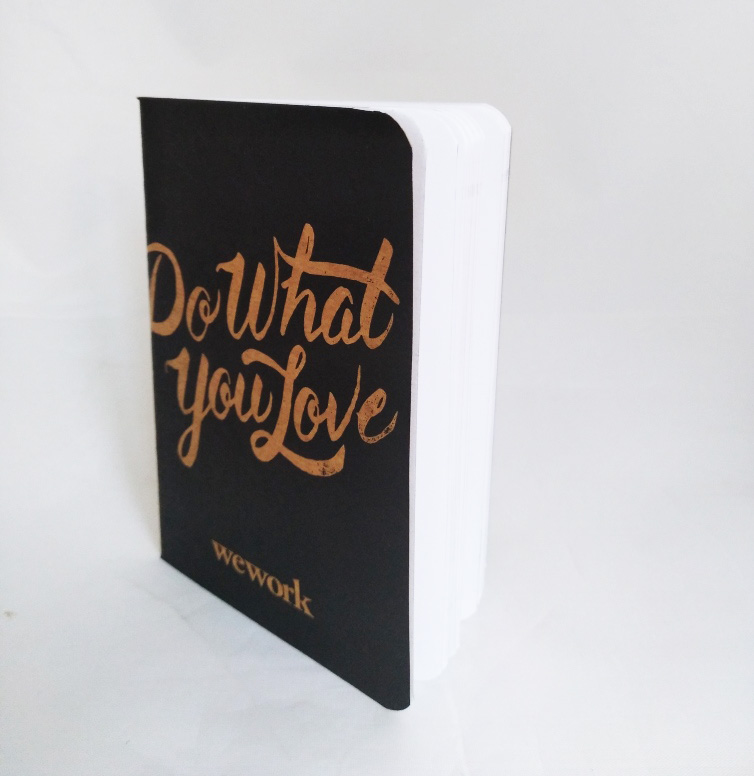wework: (208, 535, 317, 623)
